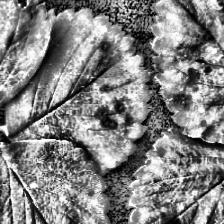Leaf Spot: (5, 7, 152, 177), (149, 0, 223, 144), (0, 136, 113, 224), (127, 127, 224, 224), (0, 0, 52, 148)
